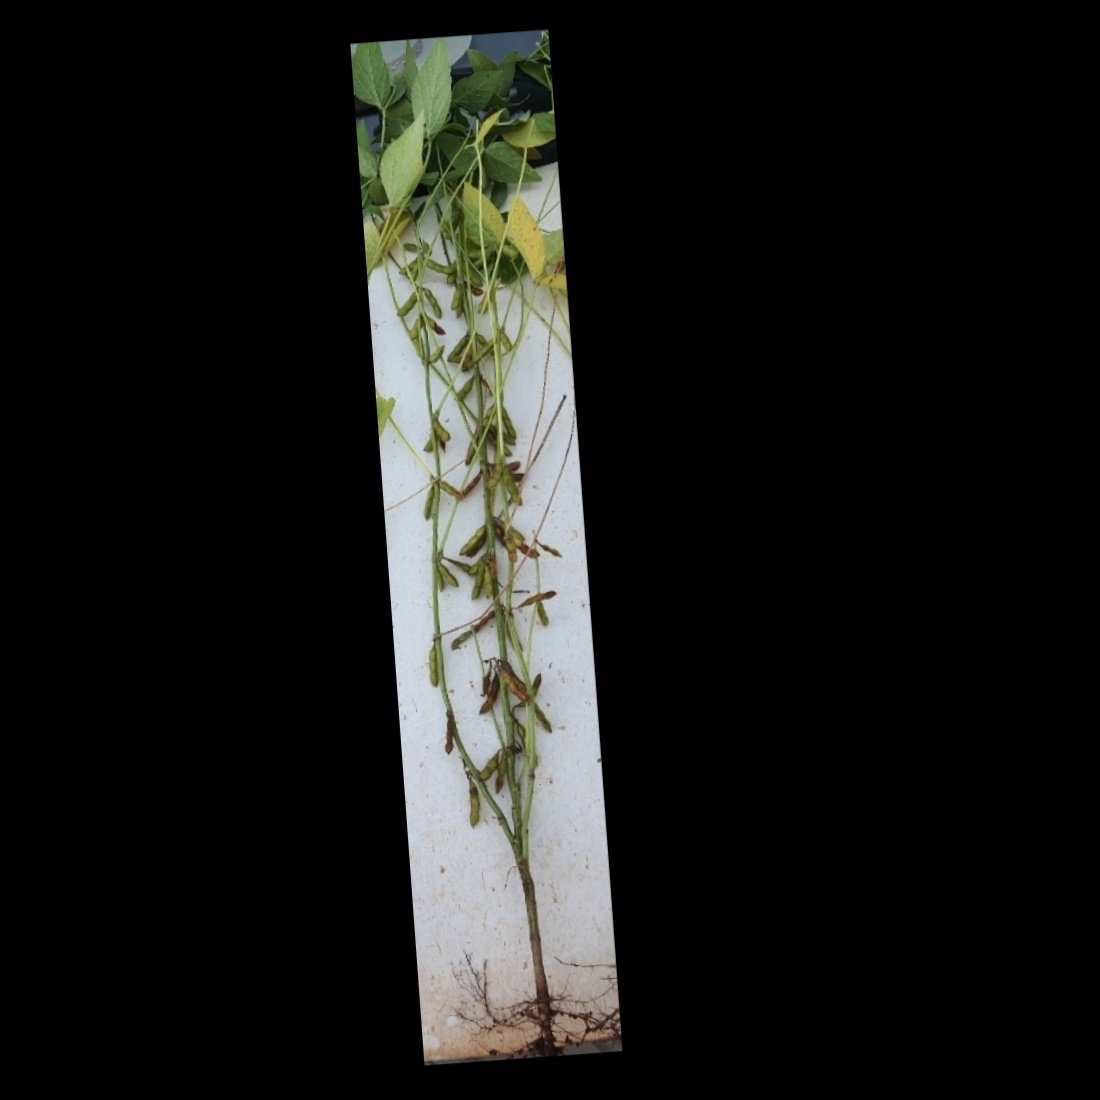pod: (472, 674, 503, 722), (455, 520, 491, 558), (443, 330, 473, 369), (467, 556, 491, 604), (462, 778, 484, 830), (482, 461, 512, 496), (421, 286, 447, 324), (420, 647, 442, 688), (420, 483, 441, 523), (422, 257, 460, 279), (475, 749, 502, 782), (393, 289, 419, 321), (437, 557, 460, 593), (433, 416, 453, 442)
soy: (354, 35, 609, 1049)
